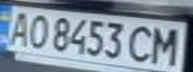3: (103, 19, 130, 61)
4: (66, 16, 90, 56)
5: (84, 17, 109, 59)
8: (48, 15, 72, 53)
A: (3, 8, 36, 46)
C: (124, 22, 160, 64)
M: (148, 24, 187, 66)
O: (24, 12, 51, 50)
